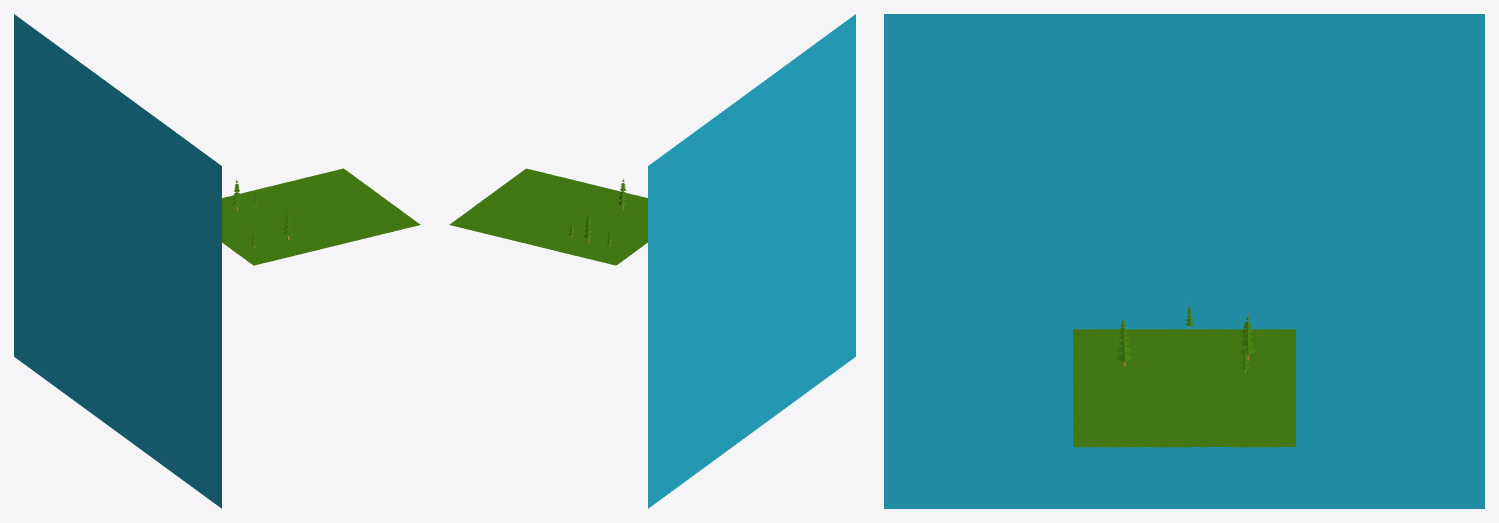
File: kingdomForest.glb
3 renders of one model, left to right at view 1: azimuth 30°, elevation 25°; view 2: azimuth 150°, elevation 25°; view 3: azimuth 270°, elevation 25°, orthographic. The views are drawn at different scales.
Visible parts, largest first — view 1: Forest_Sky, Forest_Ground; view 2: Forest_Sky, Forest_Ground; view 3: Forest_Sky, Forest_Ground.
Part boxes in pixels (bbox=[...]): Forest_Sky: bbox=[14, 14, 221, 508]; Forest_Ground: bbox=[222, 168, 420, 265]; Forest_Sky: bbox=[648, 14, 855, 508]; Forest_Ground: bbox=[449, 168, 647, 265]; Forest_Sky: bbox=[884, 14, 1484, 508]; Forest_Ground: bbox=[1073, 304, 1295, 447].
Bounding box in the file's own units: 403 × 500 × 550.
